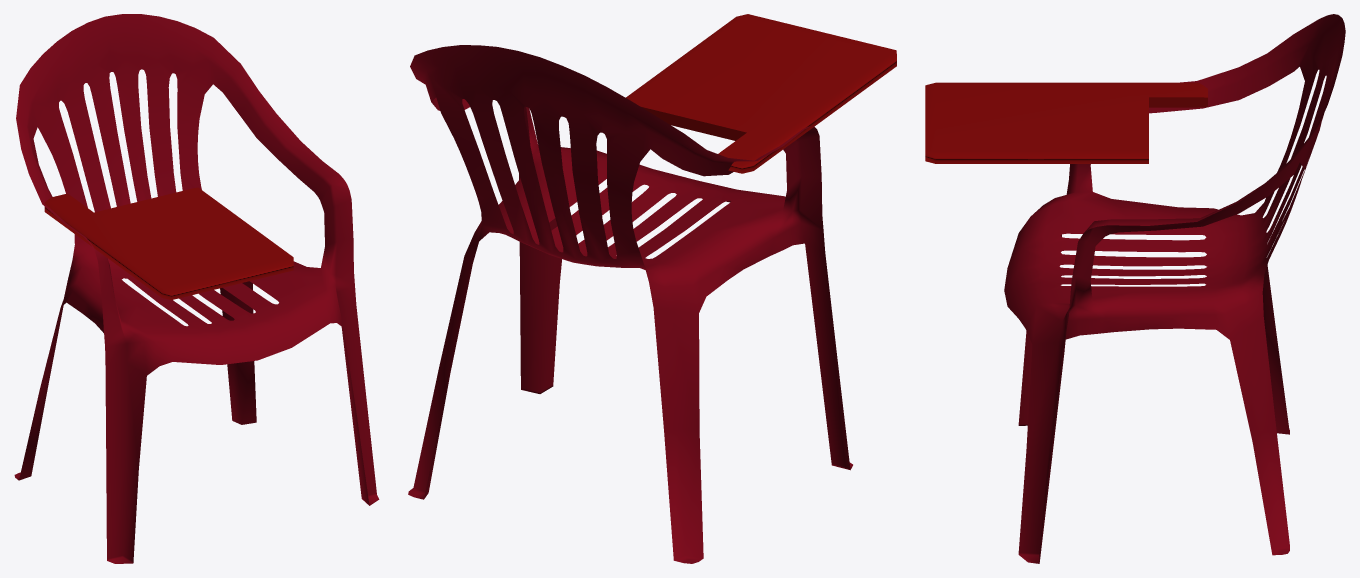
Rendered from student_chair.fbx.
The picture shows the model from 3 angles, left to right: view 1: azimuth 30°, elevation 25°; view 2: azimuth 150°, elevation 25°; view 3: azimuth 270°, elevation 25°; orthographic projection. The views are drawn at different scales.
Parts seen in each view (by area): view 1: Plastic_Chair, Cube; view 2: Plastic_Chair, Cube; view 3: Plastic_Chair, Cube.
Part boxes in pixels (x1,y1,x2,y2): Plastic_Chair: (14, 14, 379, 563); Cube: (44, 187, 293, 299); Plastic_Chair: (408, 45, 852, 563); Cube: (626, 14, 896, 173); Plastic_Chair: (1004, 14, 1345, 563); Cube: (925, 82, 1207, 163).
Size of the model in its own units: 61.56 by 89.51 by 74.34.
